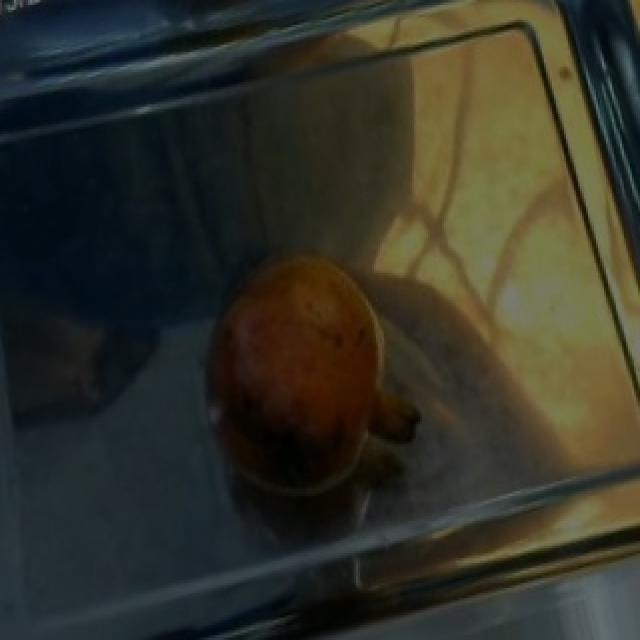fruit: (192, 231, 410, 491)
